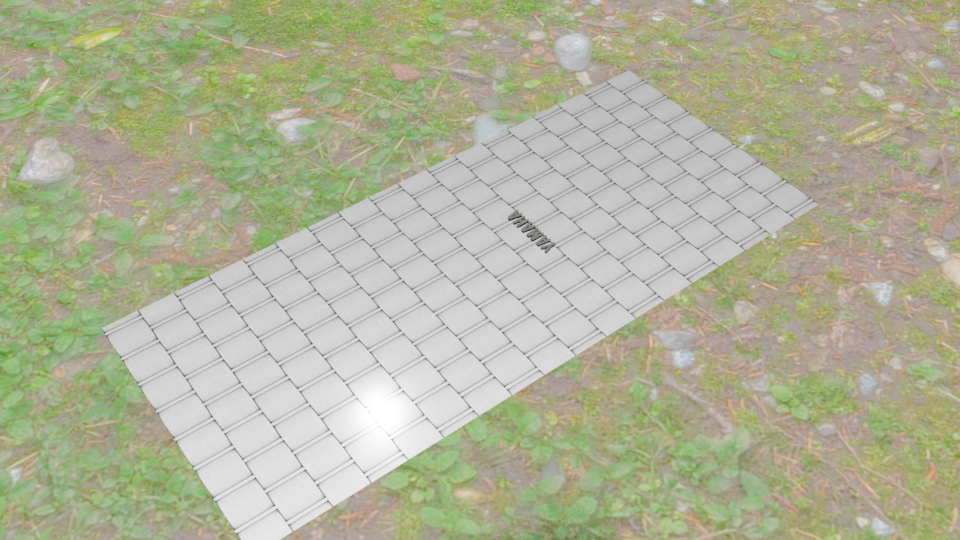yamaha_letters: (506, 208, 556, 252)
